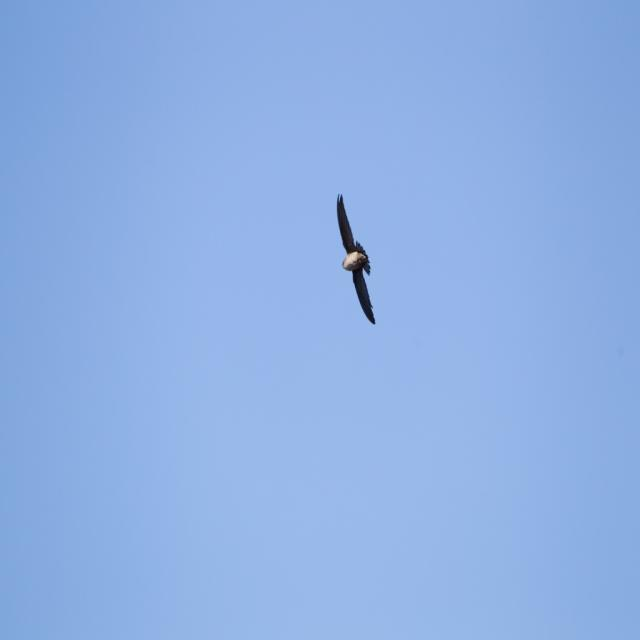bird: (335, 197, 377, 321)
